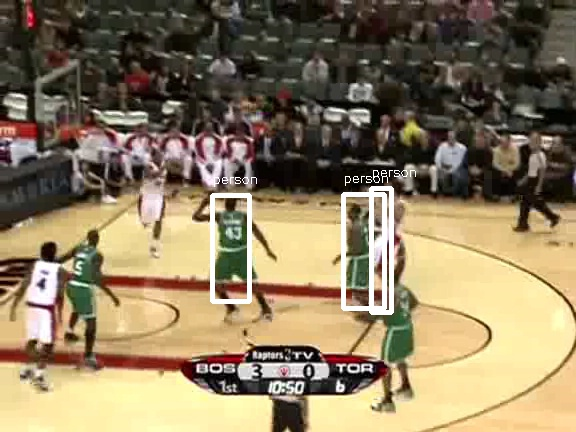person: (342, 214, 376, 295), (341, 214, 375, 295), (343, 214, 377, 295), (342, 213, 376, 294), (342, 215, 376, 296)
target_negative: (350, 44, 545, 396), (135, 79, 466, 137), (398, 95, 509, 248), (149, 112, 254, 169), (57, 53, 285, 67), (422, 303, 438, 426)
